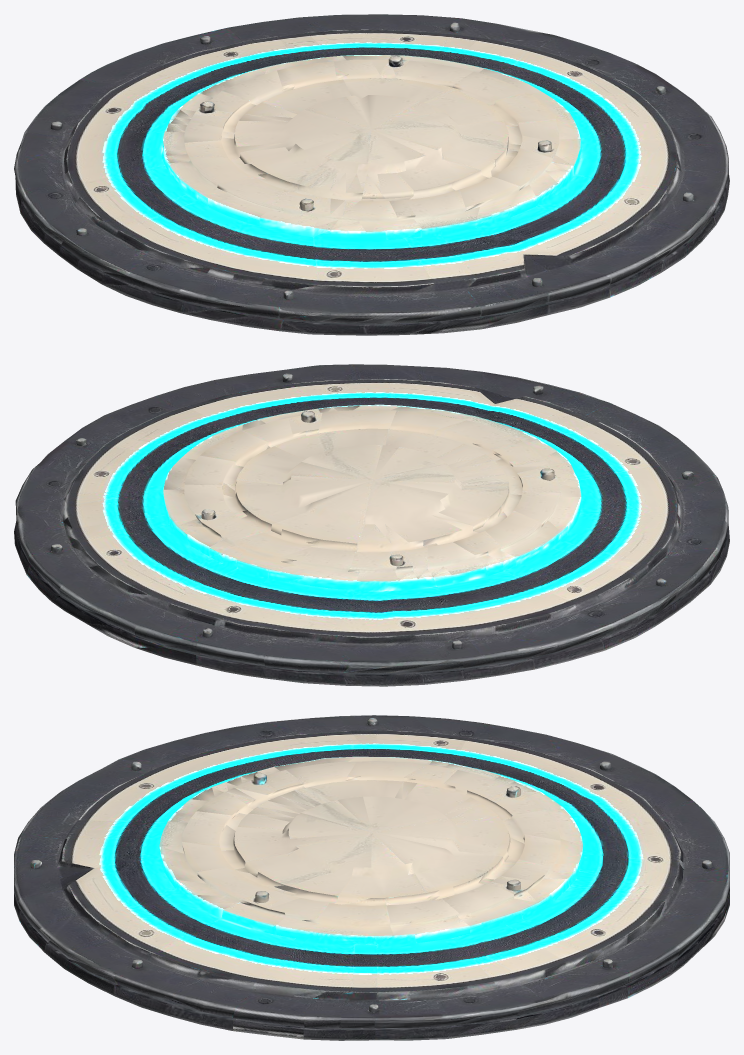
File: teleport-pad.glb
3 views of the same model, one above another, from view 1: azimuth 30°, elevation 25°; view 2: azimuth 150°, elevation 25°; view 3: azimuth 270°, elevation 25° (orthographic).
Size of the model in its own units: 2.4 by 0.2145 by 2.4.
1 material, 1 textured.
